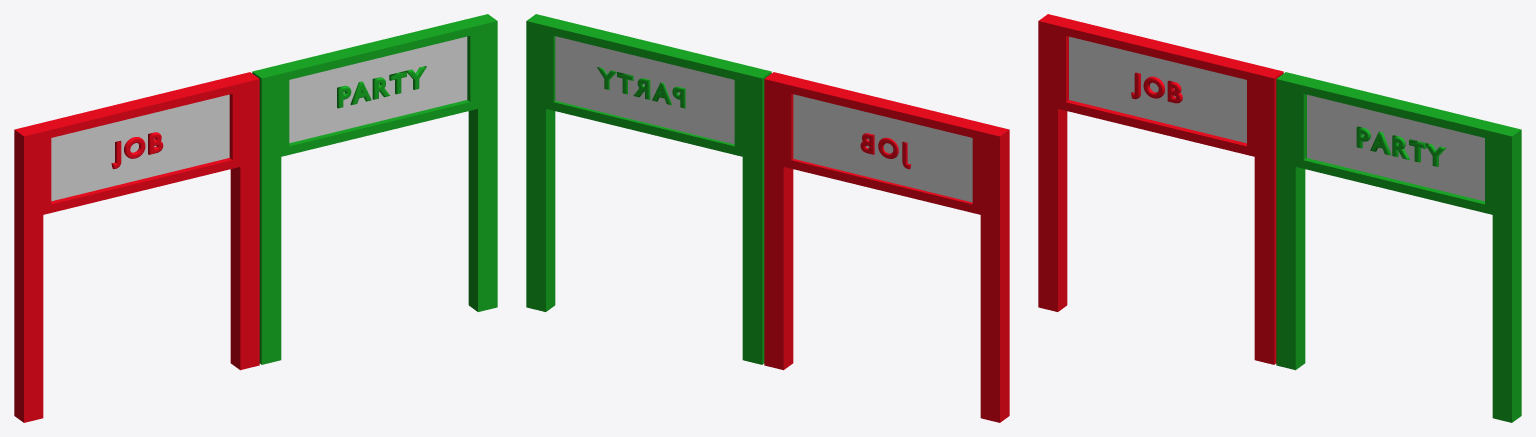
Rendered from JOB_PARTY GATE.fbx.
3 views of the same model, side by side, from view 1: azimuth 30°, elevation 25°; view 2: azimuth 150°, elevation 25°; view 3: azimuth 330°, elevation 25° (orthographic).
Visible parts, largest first — view 1: JOB GATE, PARTY GATE; view 2: JOB GATE, PARTY GATE; view 3: PARTY GATE, JOB GATE.
Boxes of the visible parts, x1,y1,x2,y2 form: JOB GATE: [14, 72, 259, 422]; PARTY GATE: [252, 14, 497, 364]; JOB GATE: [764, 72, 1009, 422]; PARTY GATE: [526, 14, 771, 364]; PARTY GATE: [1276, 72, 1521, 422]; JOB GATE: [1038, 14, 1283, 364].
Bounding box in the file's own units: 1974 × 1141 × 68.85.
